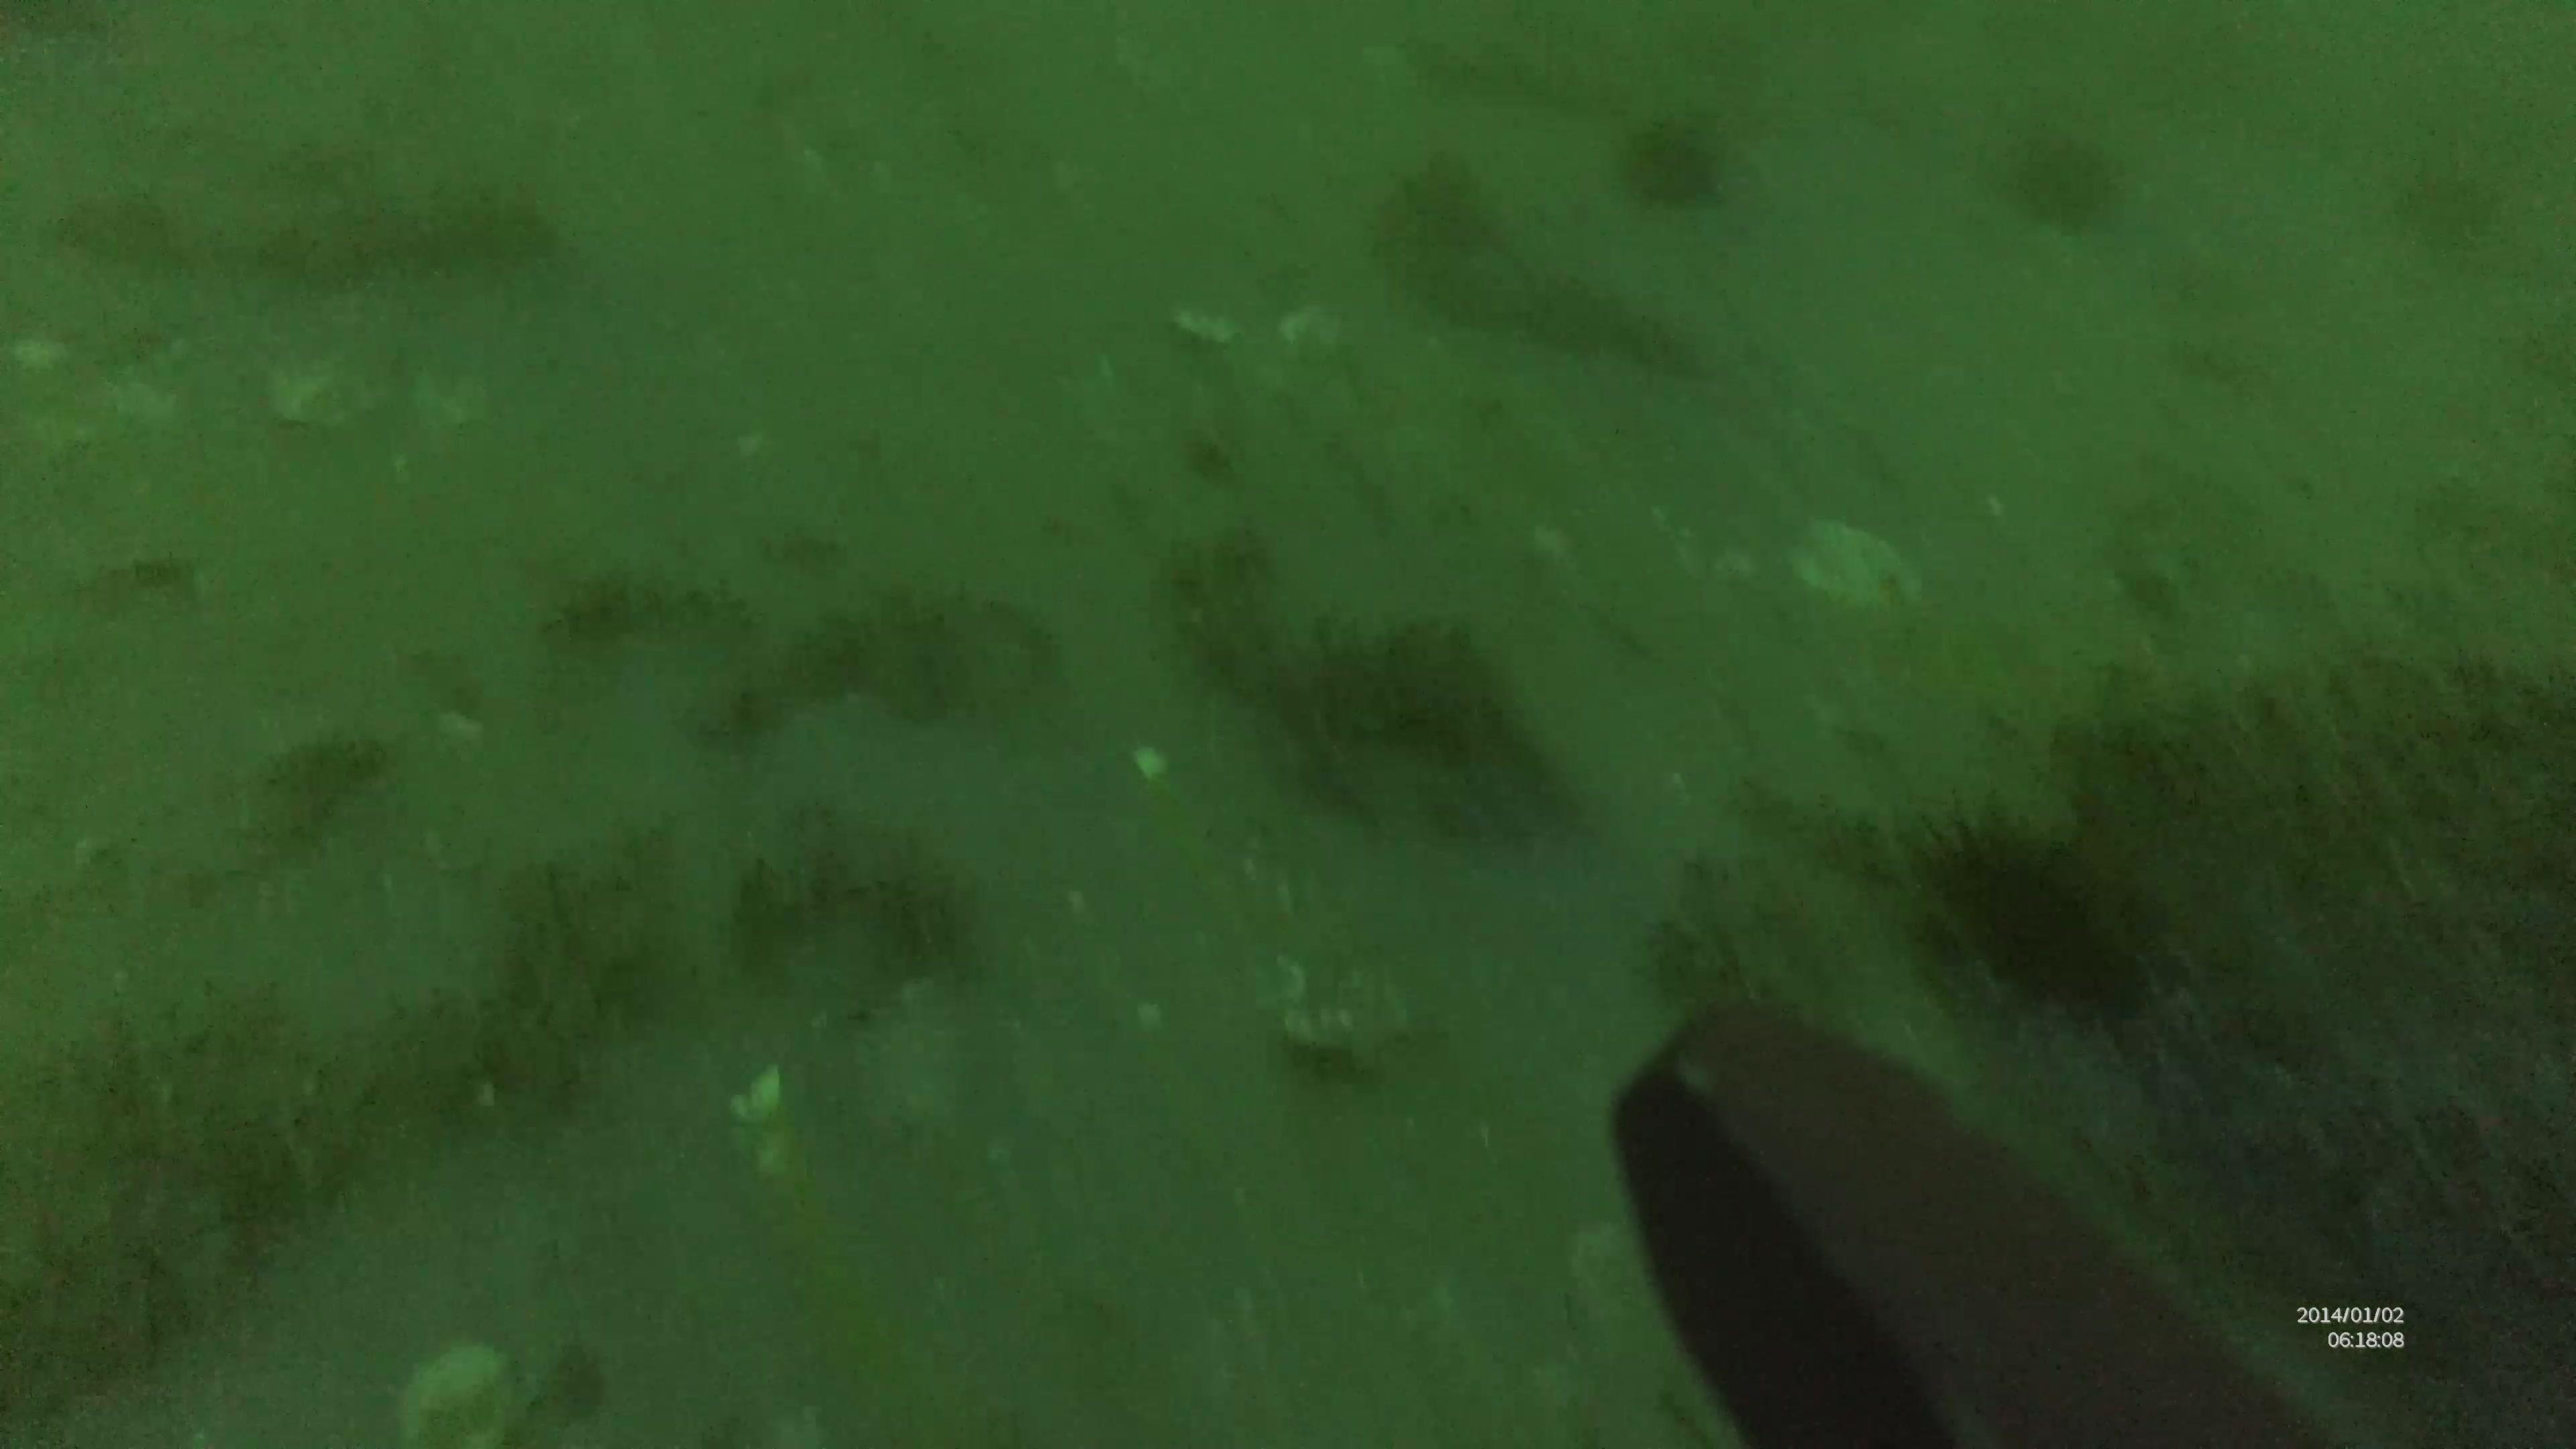echinus: (1900, 789, 2164, 1017), (1626, 120, 1729, 211)
